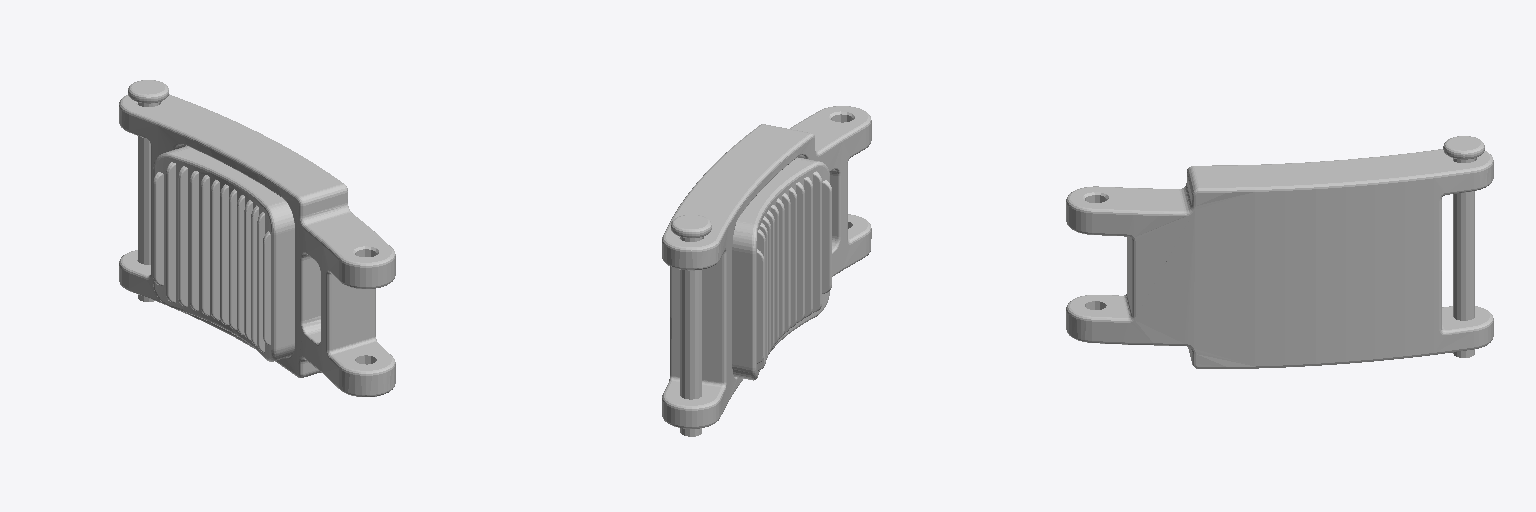
Rendered from r_f_bar-3.obj.
3 views of the same model, side by side, from view 1: azimuth 30°, elevation 25°; view 2: azimuth 150°, elevation 25°; view 3: azimuth 270°, elevation 25° (orthographic).
Visible parts, largest first — view 1: obj1; view 2: obj1; view 3: obj1.
Boxes of the visible parts, x1,y1,x2,y2 form: obj1: [119, 80, 395, 396]; obj1: [662, 106, 871, 436]; obj1: [1066, 136, 1493, 368].
Size of the model in its own units: 0.0154 by 0.0313 by 0.0577.